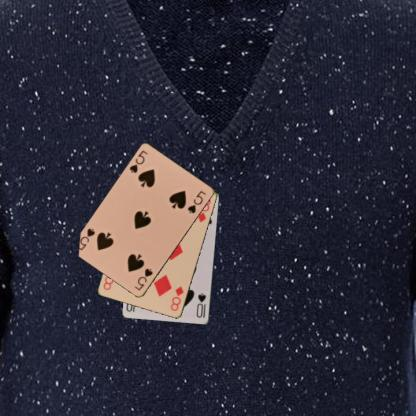10s: (194, 291, 208, 319)
5s: (132, 266, 154, 292), (127, 148, 149, 174)
8d: (168, 284, 185, 312)
